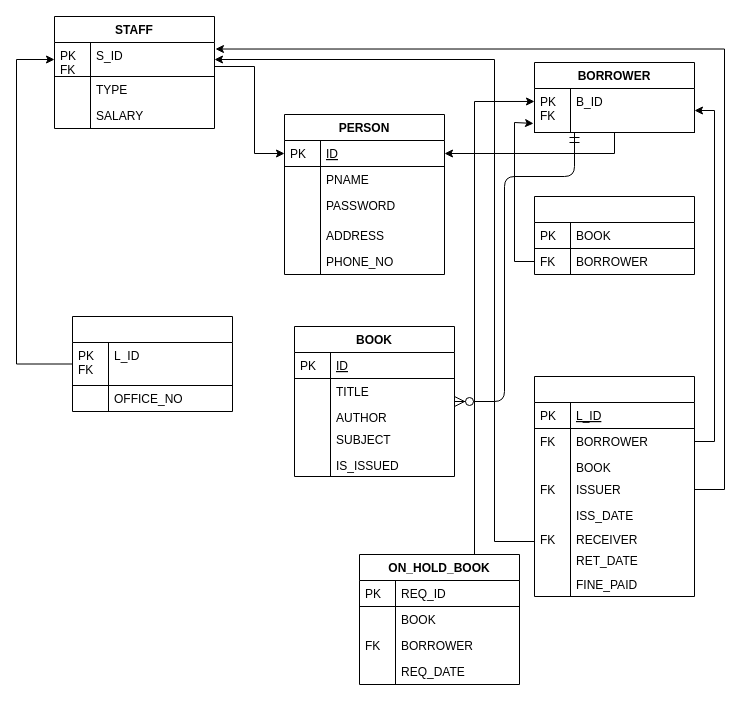
This 741x701 diagram has some shape labels left out. The shapes that lost their labels are listed below. From the top down, each one's box as (x1, y1, x2, y2) in pixels, then its label:
(534, 196, 694, 274): BORROWED_BOOK
(72, 316, 232, 412): LIBRARIAN
(534, 376, 694, 596): LOAN
